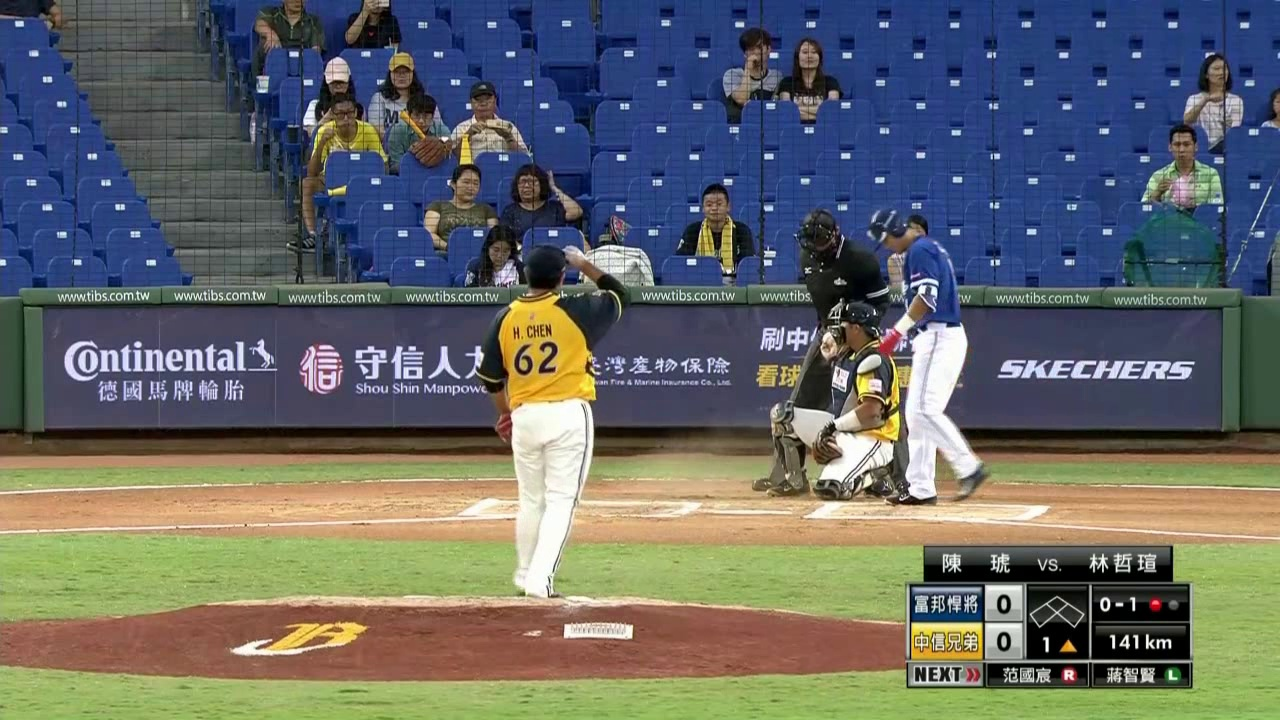ball: (820, 330, 830, 345)
base: (1027, 586, 1084, 630)
out: (1144, 592, 1182, 614)
score1: (991, 590, 1017, 617)
score2: (989, 630, 1024, 660)
session: (1028, 636, 1080, 658)
speed: (1097, 627, 1176, 657)
strikeball: (1093, 586, 1140, 618)
